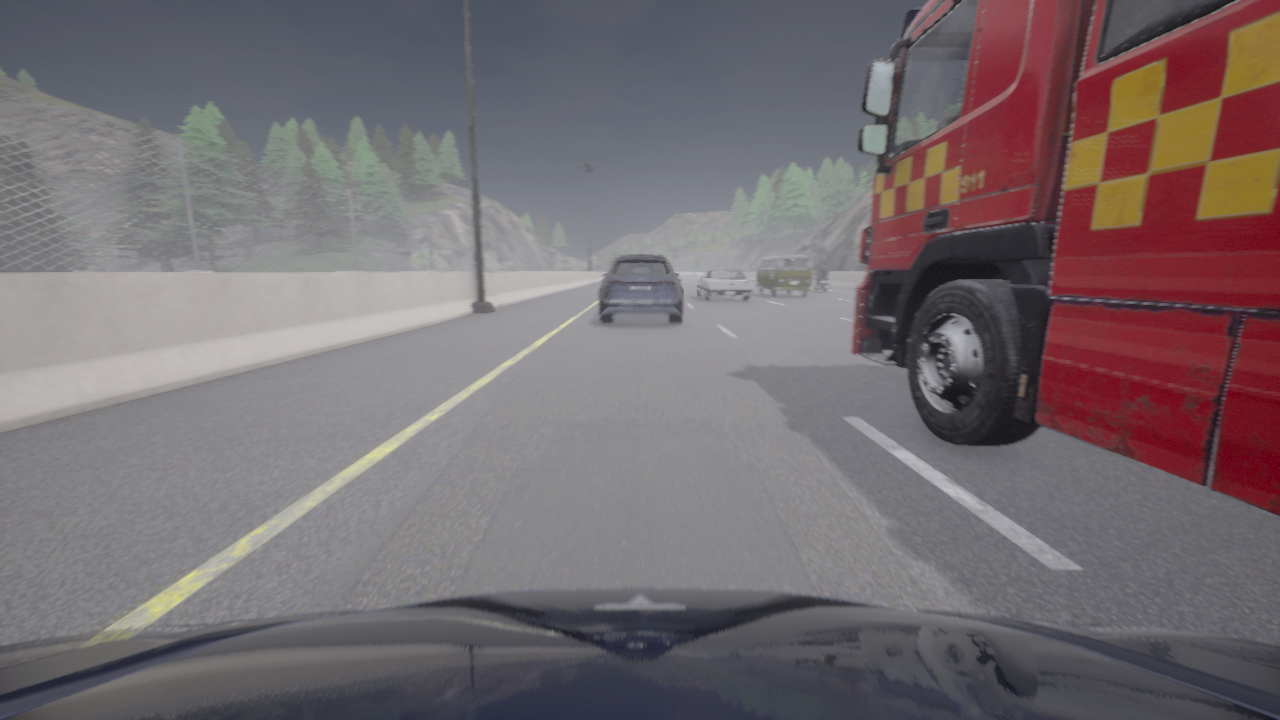cyclist: (850, 0, 1279, 516), (0, 588, 1279, 719), (599, 254, 682, 323), (755, 255, 812, 296), (696, 269, 752, 300), (813, 271, 828, 292)
